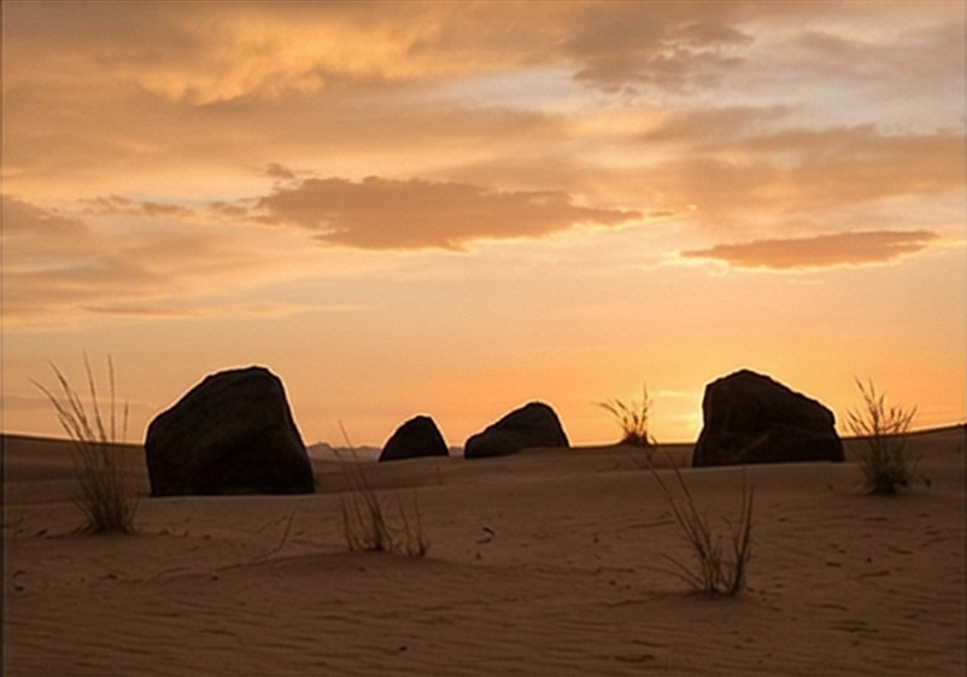rocks: (145, 367, 313, 494), (695, 370, 843, 465), (466, 402, 569, 458), (380, 416, 448, 461)
